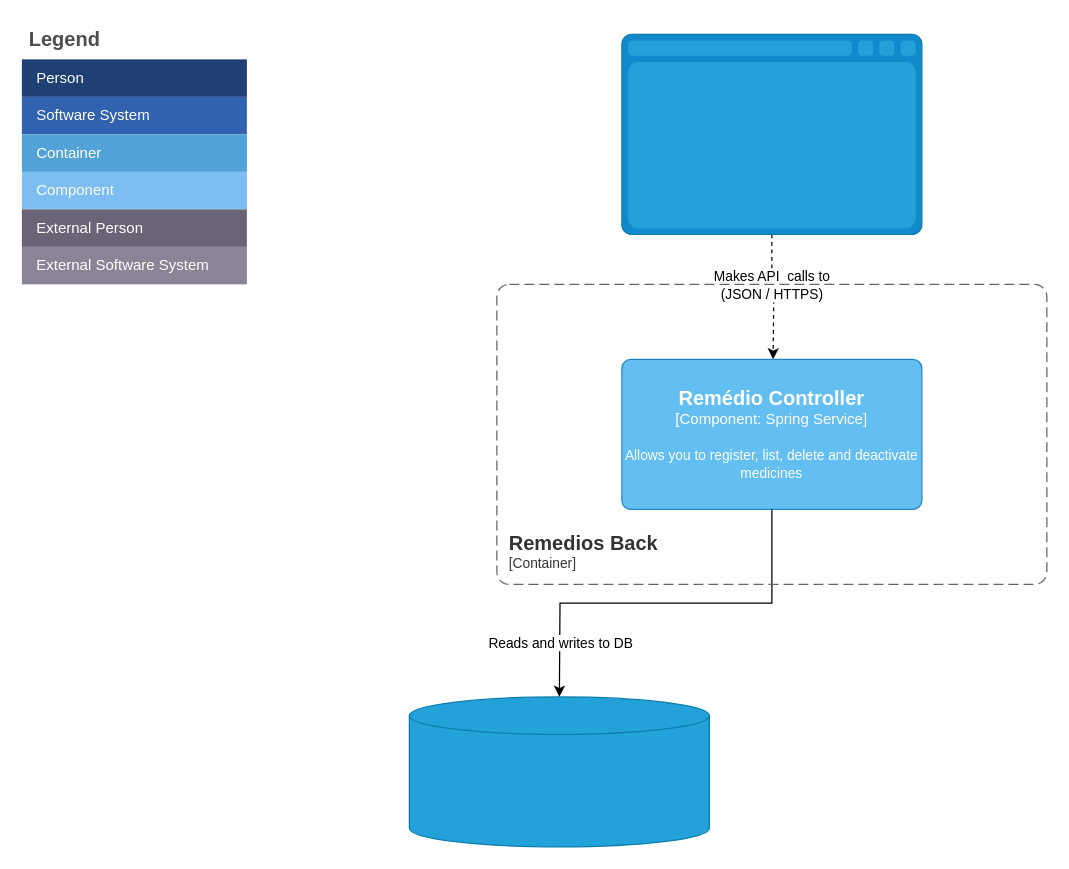
The diagram is 1069 pixels wide and 869 high, and some of its shapes have lost their labels. Here are the shapes that lost their labels. From the top down, the centre of each, then its label:
At pixel 771 133: "Web APP [Web APP: React, Next js] remedios front".
At pixel 558 771: "Database [Database: SQL] Armazena remédios ativos e inativos".
